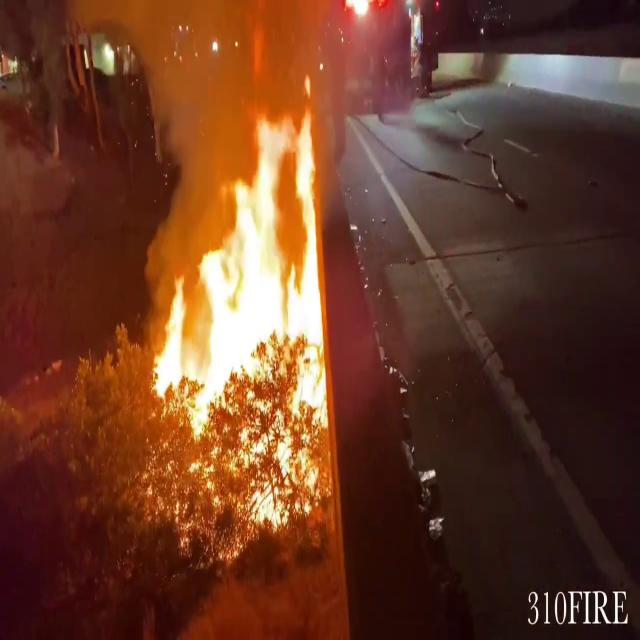Fire: (151, 73, 335, 531)
